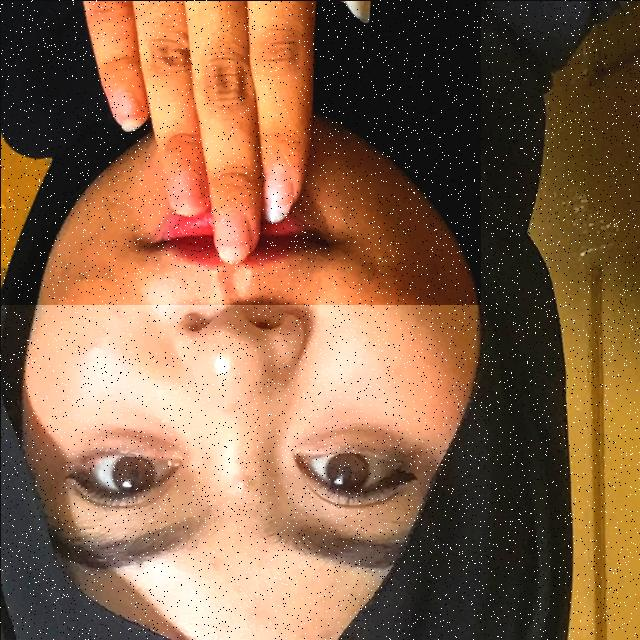ganteng: (0, 0, 480, 304)
